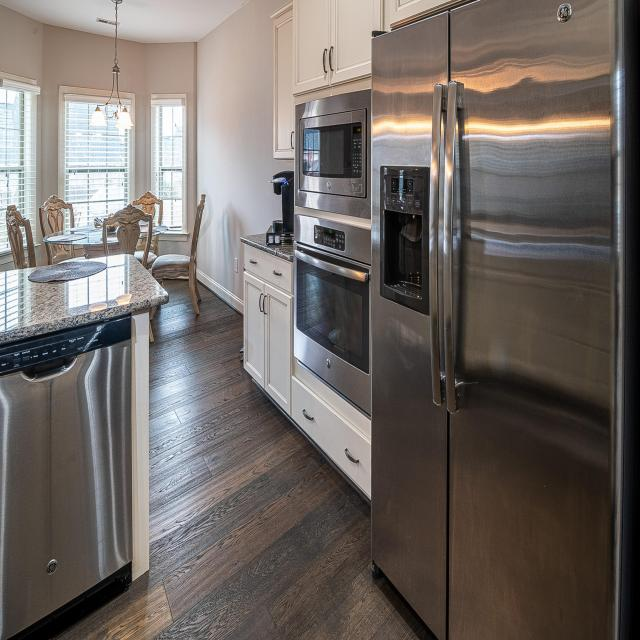dishwasher: (0, 311, 136, 638)
